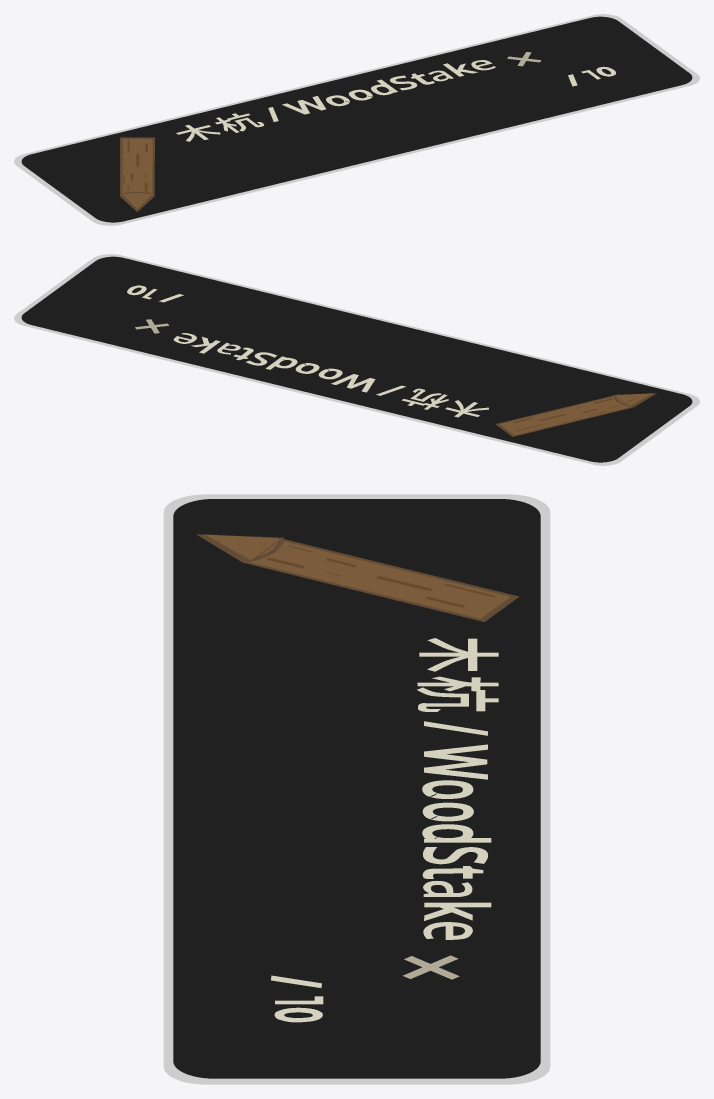
File: KINOKUI.fbx
3 views of the same model, one above another, from view 1: azimuth 30°, elevation 25°; view 2: azimuth 150°, elevation 25°; view 3: azimuth 270°, elevation 25° (orthographic). The views are drawn at different scales.
Visible parts, largest first — view 1: Curve.001, Curve, Curve.011, Curve.009; view 2: Curve.001, Curve, Curve.011, Curve.009; view 3: Curve.001, Curve, Curve.011, Curve.009, Curve.012.
Part boxes in pixels (x1,y1,x2,y2): Curve.001: (21,16,692,222); Curve: (14,14,699,225); Curve.011: (122,139,152,195); Curve.009: (120,137,154,196); Curve.001: (21,256,692,462); Curve: (14,254,699,465); Curve.011: (500,396,629,435); Curve.009: (495,395,632,436); Curve.001: (173,499,540,1078); Curve: (163,494,550,1084); Curve.011: (251,541,510,618); Curve.009: (243,537,519,621); Curve.012: (205,534,280,559).
Size of the model in its own units: 18.24 by 0.05 by 5.05.
